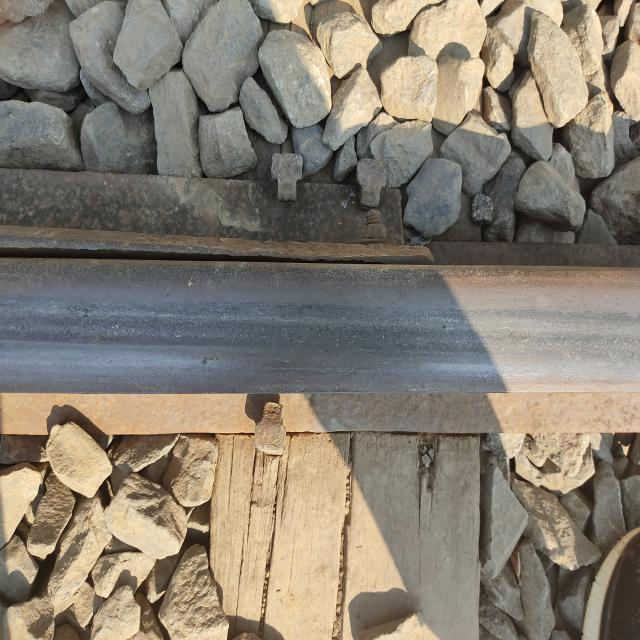Faults: (245, 405, 301, 480), (256, 149, 314, 209), (357, 158, 390, 217)
